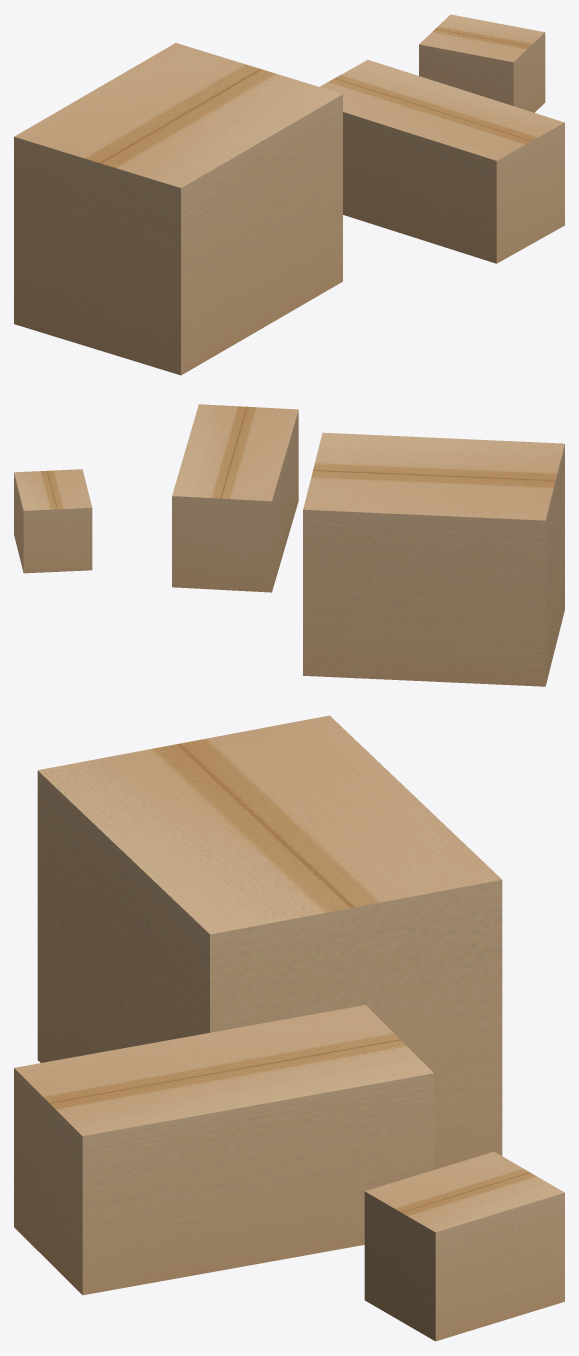
The model's file is cardboard_box.obj.
The picture shows the model from 3 angles, top to bottom: view 1: azimuth 30°, elevation 25°; view 2: azimuth 150°, elevation 25°; view 3: azimuth 270°, elevation 25°; orthographic projection. The views are drawn at different scales.
Visible parts, largest first — view 1: Box_1.002, Box_6, Box_3; view 2: Box_1.002, Box_6, Box_3; view 3: Box_1.002, Box_6, Box_3.
Boxes of the visible parts, bbox=[...] form: Box_1.002: bbox=[14, 43, 342, 375]; Box_6: bbox=[319, 60, 564, 263]; Box_3: bbox=[419, 14, 545, 112]; Box_1.002: bbox=[303, 432, 564, 686]; Box_6: bbox=[172, 404, 298, 592]; Box_3: bbox=[14, 469, 92, 573]; Box_1.002: bbox=[37, 715, 502, 1169]; Box_6: bbox=[14, 1005, 433, 1295]; Box_3: bbox=[364, 1151, 564, 1341].
Size of the model in its own units: 6.32 by 2 by 3.45.
